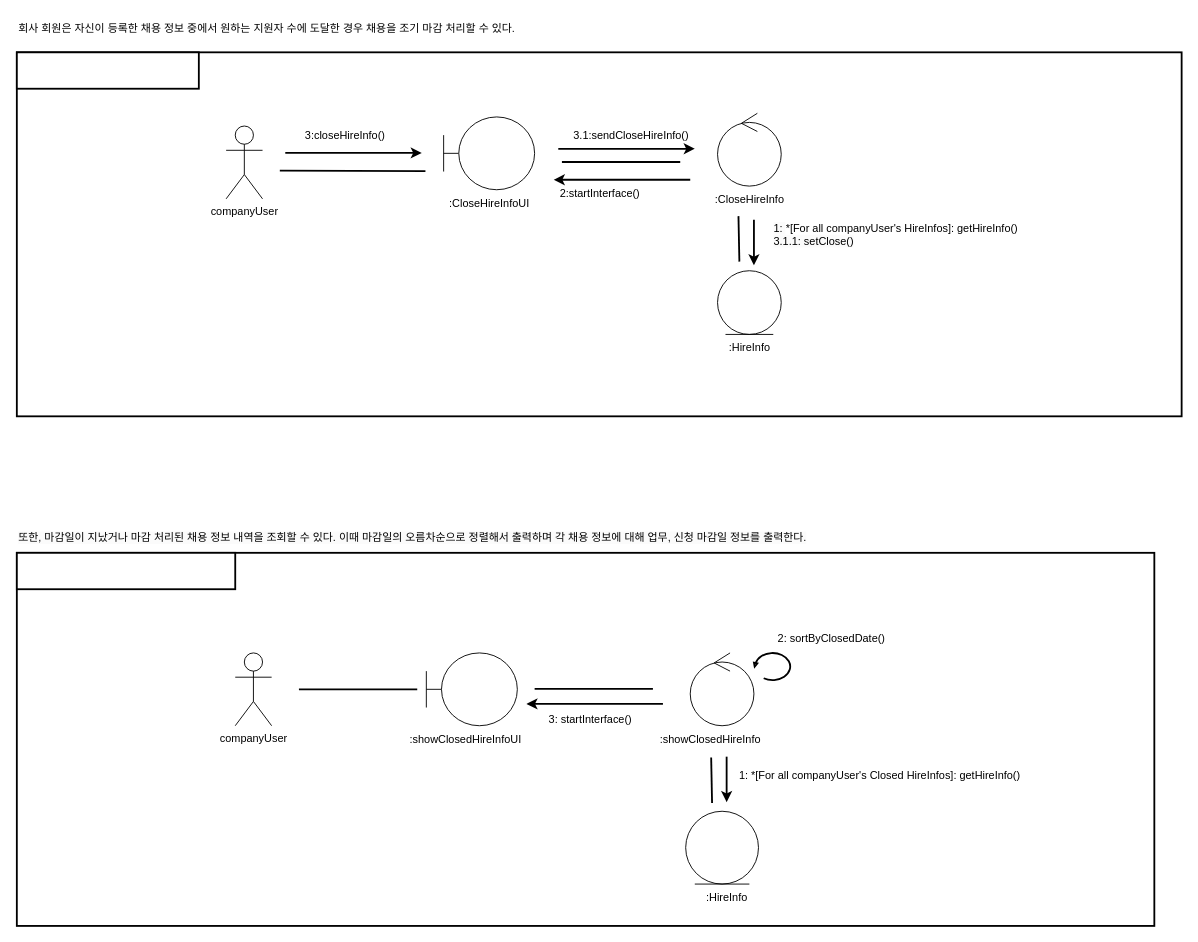
This 1198x942 diagram has some shape labels left out. The shapes that lost their labels are listed below. From the top down, each one's centre as x and y in pixels, then its label:
point 107,70: sd Close Hire info
point 125,570: sd Show Closed Hire info
